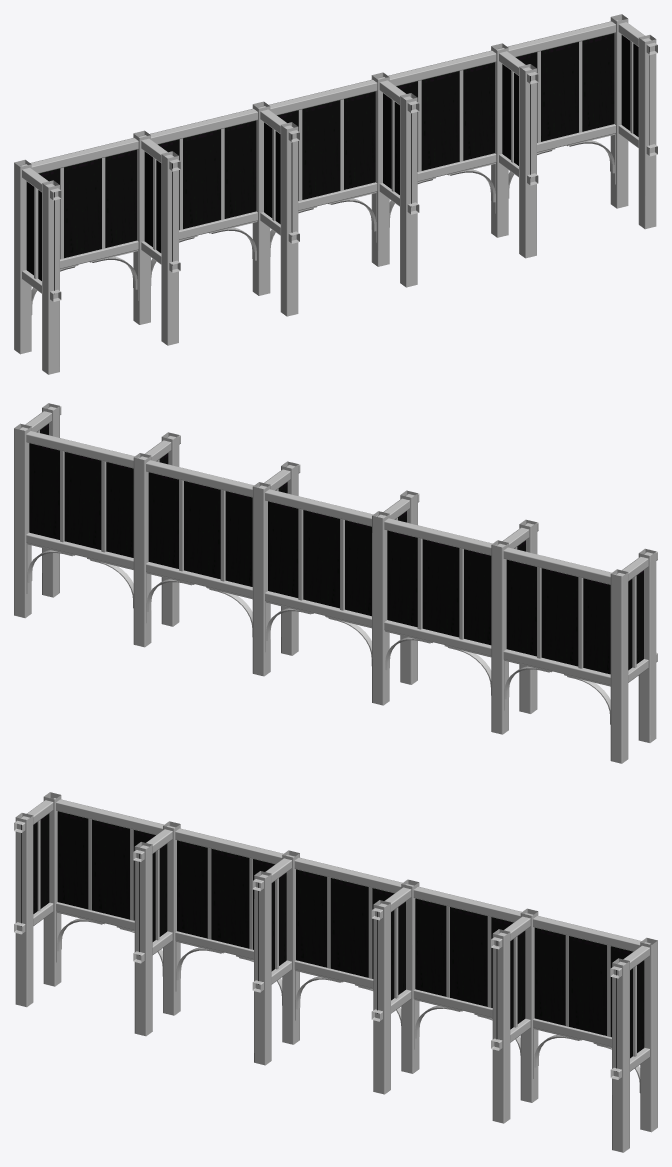
The model's file is tesla_dressing_cage_02.dae.
3 renders of one model, top to bottom at view 1: azimuth 30°, elevation 25°; view 2: azimuth 150°, elevation 25°; view 3: azimuth 330°, elevation 25°, orthographic.
Parts seen in each view (by area): view 1: polySurface20, polySurface28; view 2: polySurface20, polySurface28; view 3: polySurface20, polySurface28.
Boxes of the visible parts, bbox=[...] form: polySurface20: bbox=[14, 14, 657, 374]; polySurface28: bbox=[26, 33, 649, 293]; polySurface20: bbox=[14, 403, 657, 763]; polySurface28: bbox=[29, 423, 643, 674]; polySurface20: bbox=[14, 792, 657, 1152]; polySurface28: bbox=[21, 811, 644, 1071].
Bounding box in the file's own units: 20394 × 6000 × 2183.
